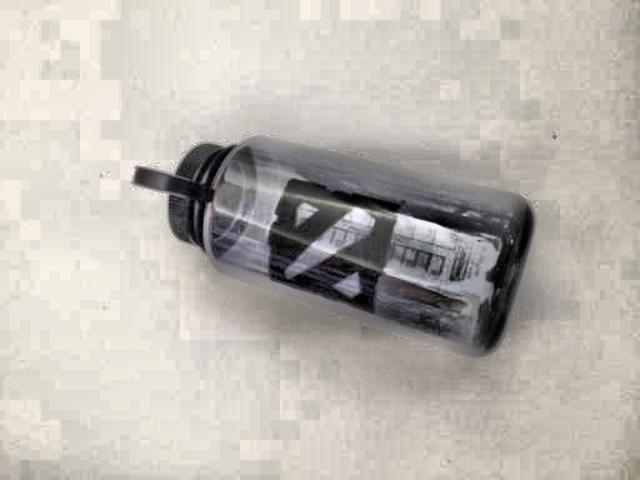Plastic: (125, 116, 541, 363)
